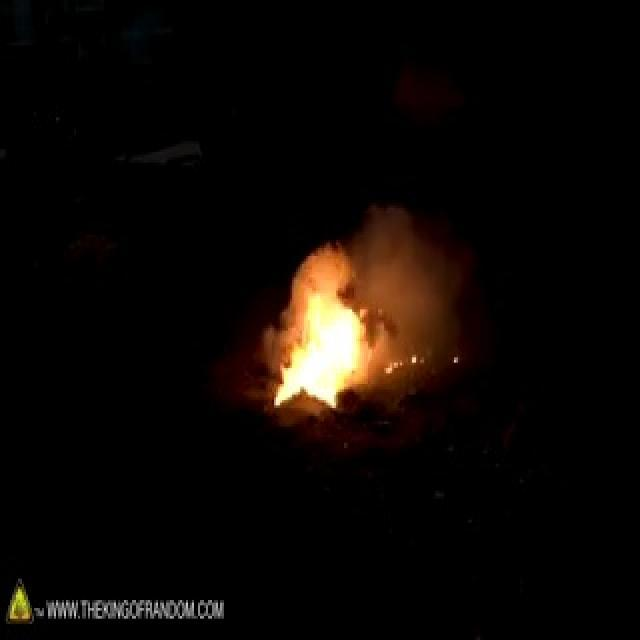Fire: (249, 257, 367, 444)
